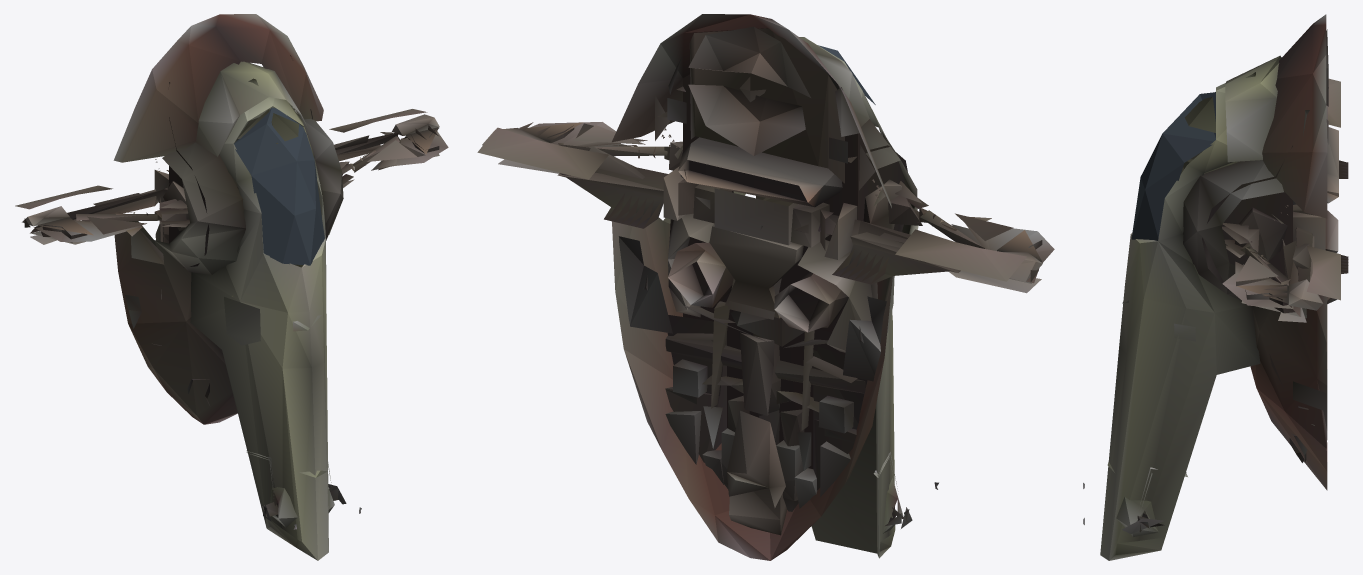
Rendered from slave1.glb.
3 views of the same model, side by side, from view 1: azimuth 30°, elevation 25°; view 2: azimuth 150°, elevation 25°; view 3: azimuth 270°, elevation 25° (orthographic). The views are drawn at different scales.
Parts seen in each view (by area): view 1: slave1; view 2: slave1; view 3: slave1.
Boxes of the visible parts, left/top/right/bottom form: slave1: left=15, top=14, right=448, bottom=560; slave1: left=477, top=14, right=1054, bottom=560; slave1: left=1083, top=14, right=1348, bottom=560.
Bounding box in the file's own units: 21.09 × 23.42 × 10.6.
